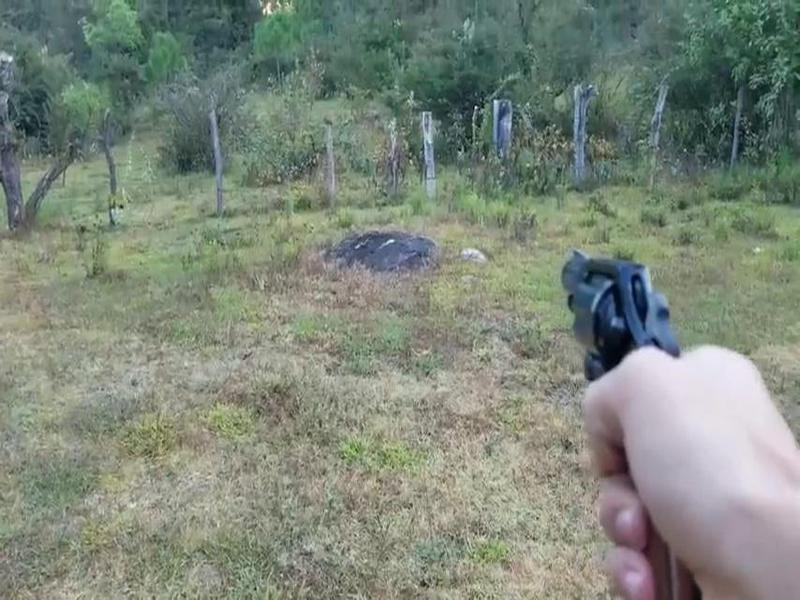Revolver: (548, 253, 695, 532)
